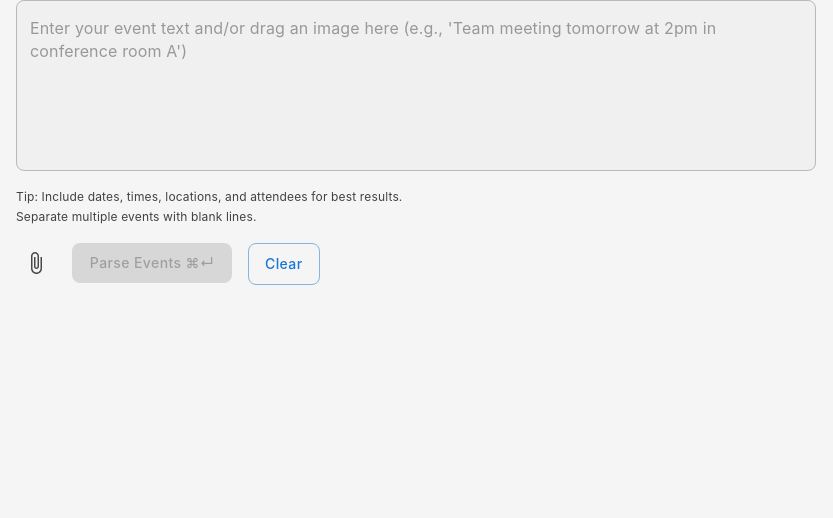
Test: TextInputForm › with real AI integration › should handle API errors gracefully
Type "Meeting tomorrow" into the text box.
click(416, 86); type("Meeting tomorrow")  # box [30, 16, 802, 154]
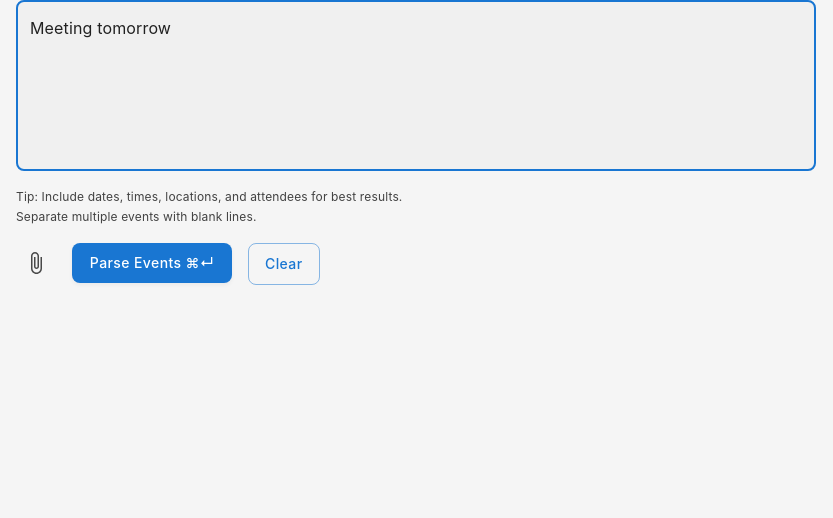
Click the button "Parse Events ⌘↵".
click(152, 263)  # box [72, 243, 232, 283]
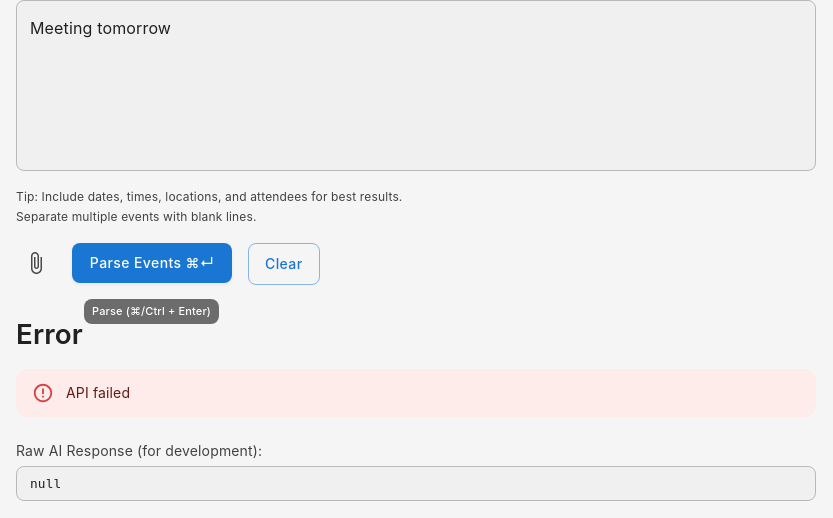
Now the button "Parse Events ⌘↵" is enabled, box [72, 243, 232, 283]
Now the text "API failed" is shown, box [66, 384, 130, 401]
